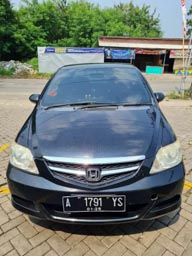plat: (62, 196, 124, 206)
